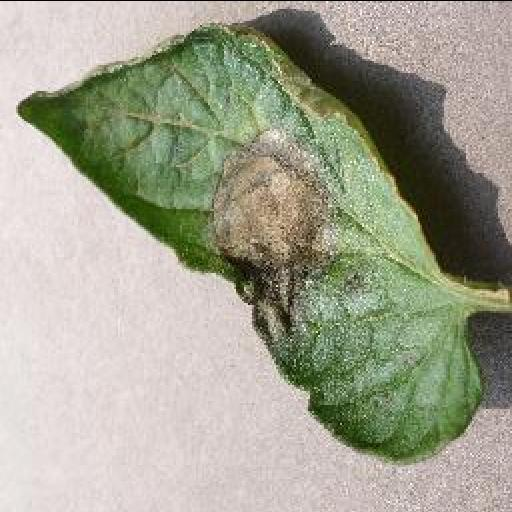disease_tomato: (14, 24, 480, 462)
